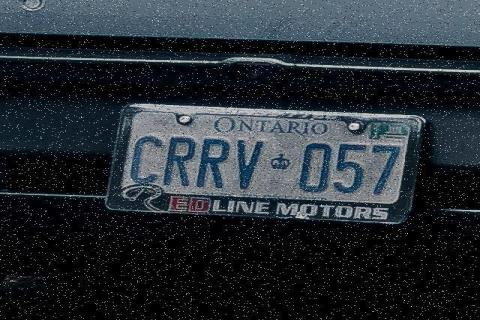LicensePlate: (99, 96, 429, 230)
